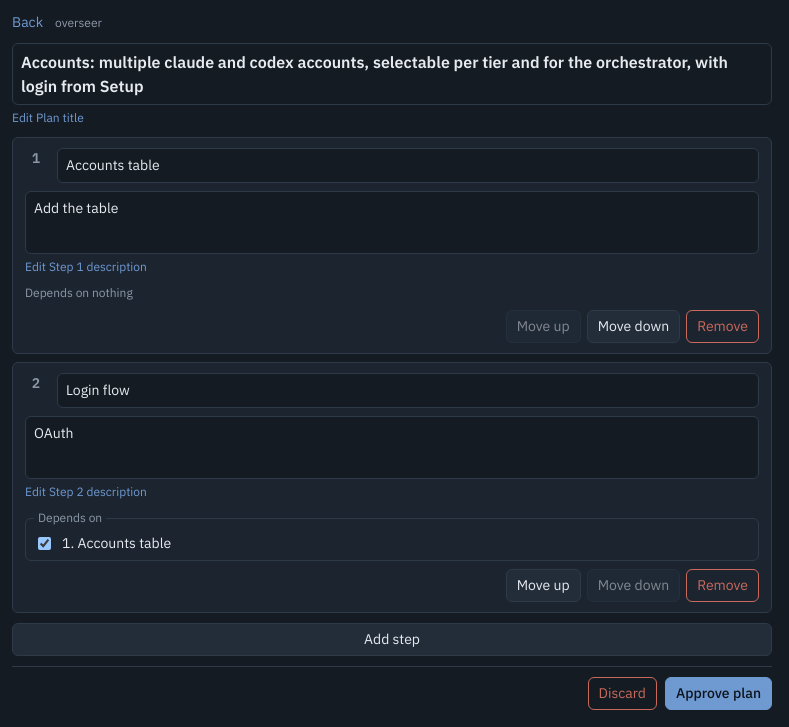
Test: Plan › keeps the typed text and stops offering Approve when the plan changed elsewhere
Replace the text in the text box named "Step 1 title" with "My unsaved words" at (408, 166), box top-left (57, 148), bottom-right (759, 183)
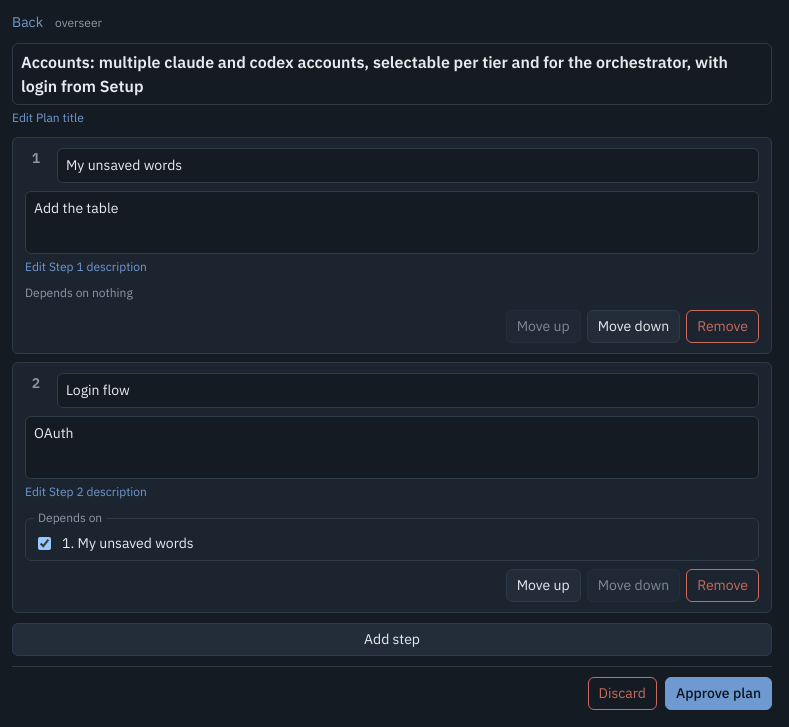
Leave the text box named "Step 1 title", box top-left (57, 148), bottom-right (759, 183)
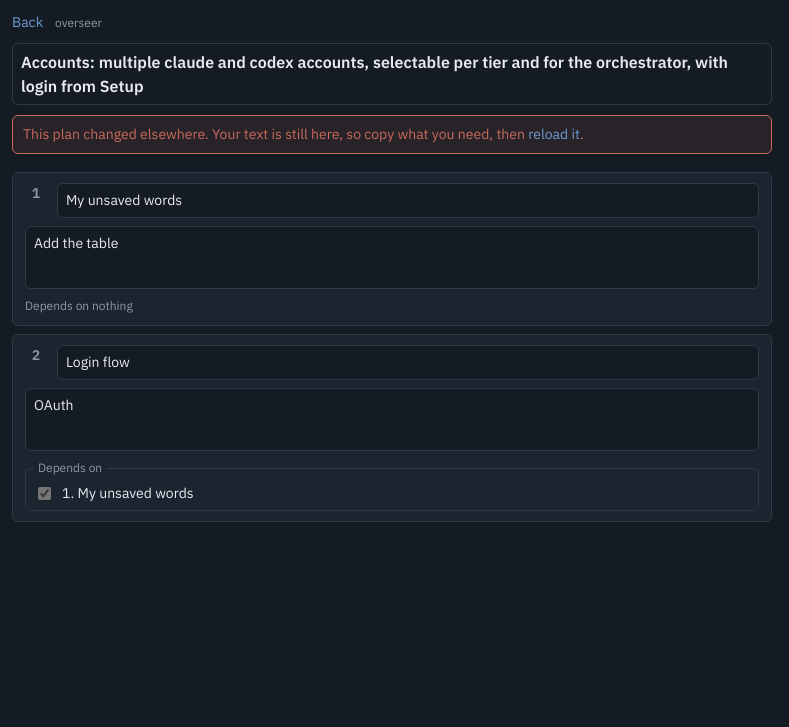
expect the text "This plan changed elsewhere" is shown: met, box top-left (23, 125), bottom-right (528, 143)
expect the button "Approve plan" is gone: met
